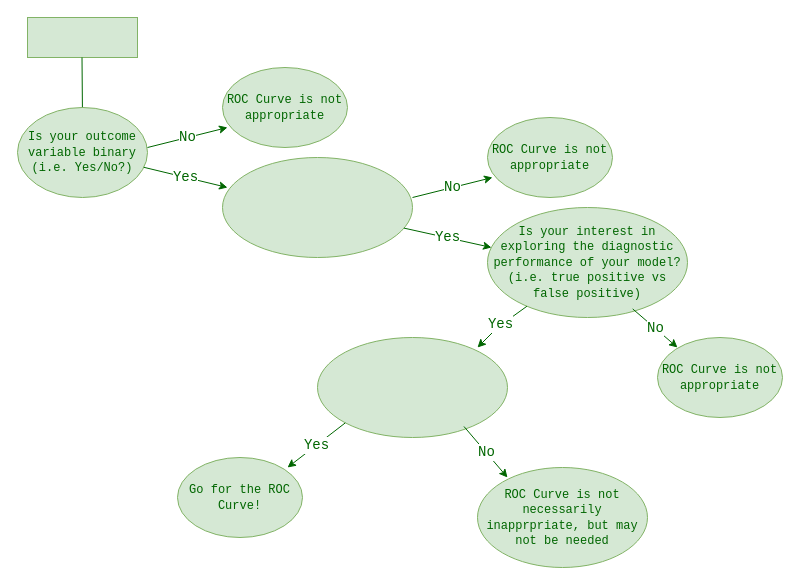
This 800x585 diagram has some shape labels left out. The box of each missing label's shape, as (x1, y1, x2, y2) in pixels:
Do you have predicted probabilities/continuous scores from your model?: (222, 156, 412, 258)
Do you need/want to compare sensitivity to 1-sensitivity?: (316, 336, 508, 438)
Start: (26, 16, 138, 58)
